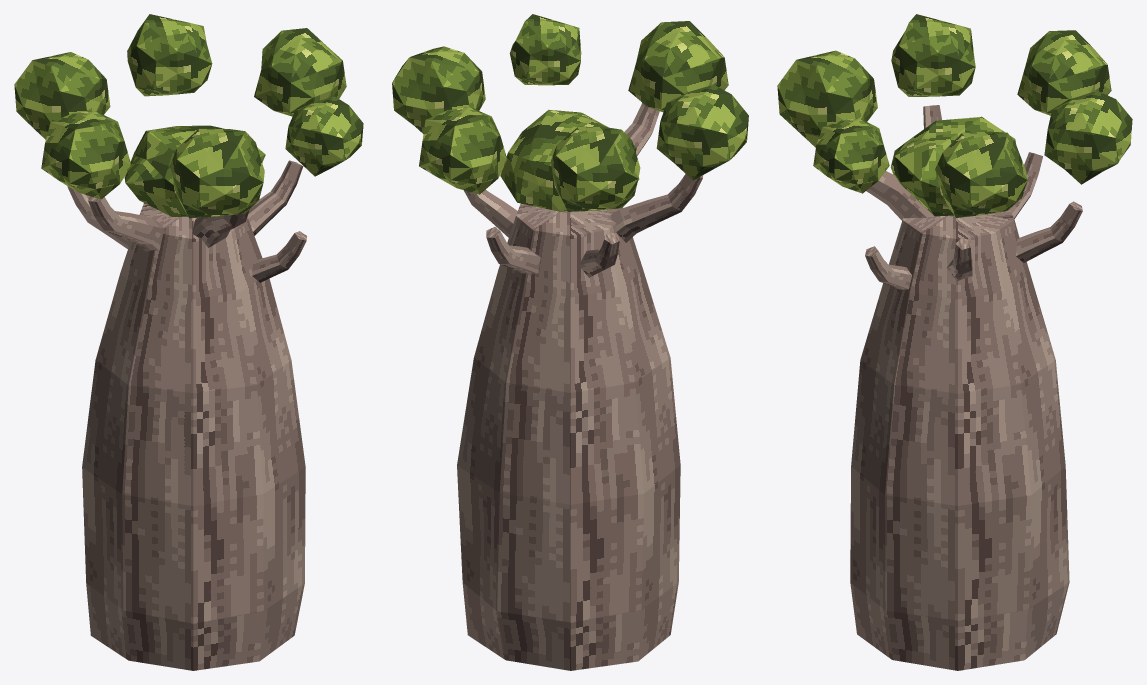
Rendered from tree_baobab.glb.
3 renders of one model, left to right at view 1: azimuth 30°, elevation 25°; view 2: azimuth 150°, elevation 25°; view 3: azimuth 270°, elevation 25°, orthographic.
Parts seen in each view (by area): view 1: tree_baobab; view 2: tree_baobab; view 3: tree_baobab.
Part boxes in pixels (left/top/right/bottom): tree_baobab: left=14, top=14, right=363, bottom=670; tree_baobab: left=392, top=14, right=748, bottom=670; tree_baobab: left=777, top=14, right=1132, bottom=670.
Size of the model in its own units: 2.04 by 3.4 by 1.99.
Materials: 2 (2 with a texture image).
